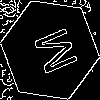M: (25, 25, 79, 81)
